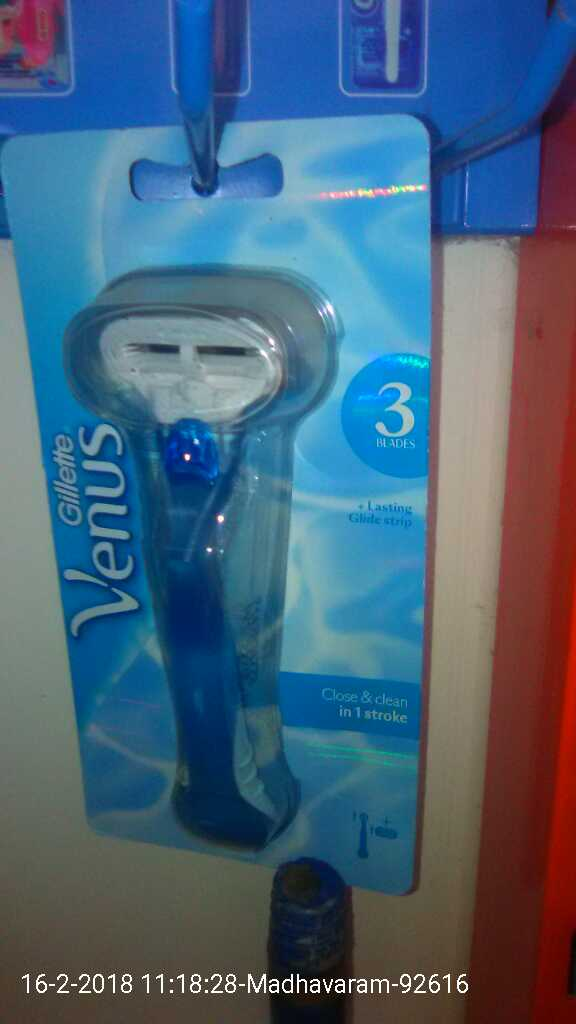venus: (57, 174, 401, 874)
